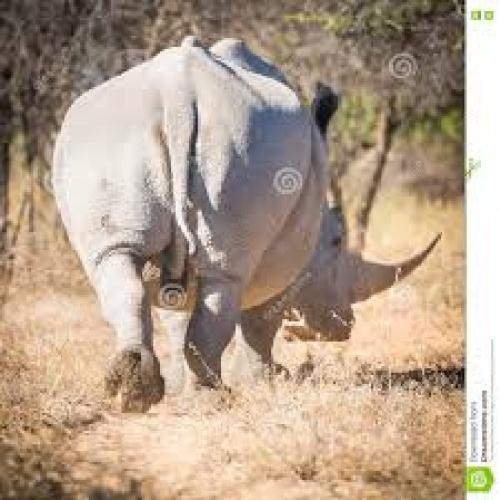rhino-endangered: (48, 38, 440, 412)
